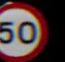Speed limit: (1, 4, 52, 59)
